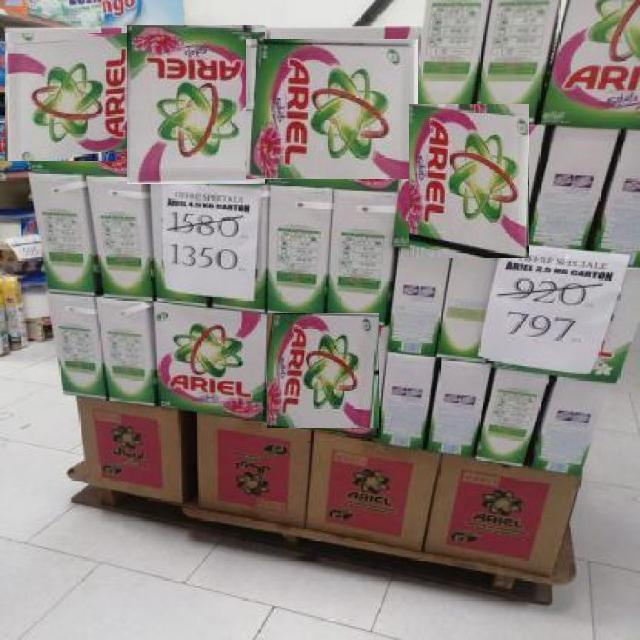Detergent: (246, 39, 418, 179), (127, 24, 265, 184), (5, 33, 150, 161), (408, 105, 529, 258), (147, 303, 267, 412), (267, 314, 379, 428)
